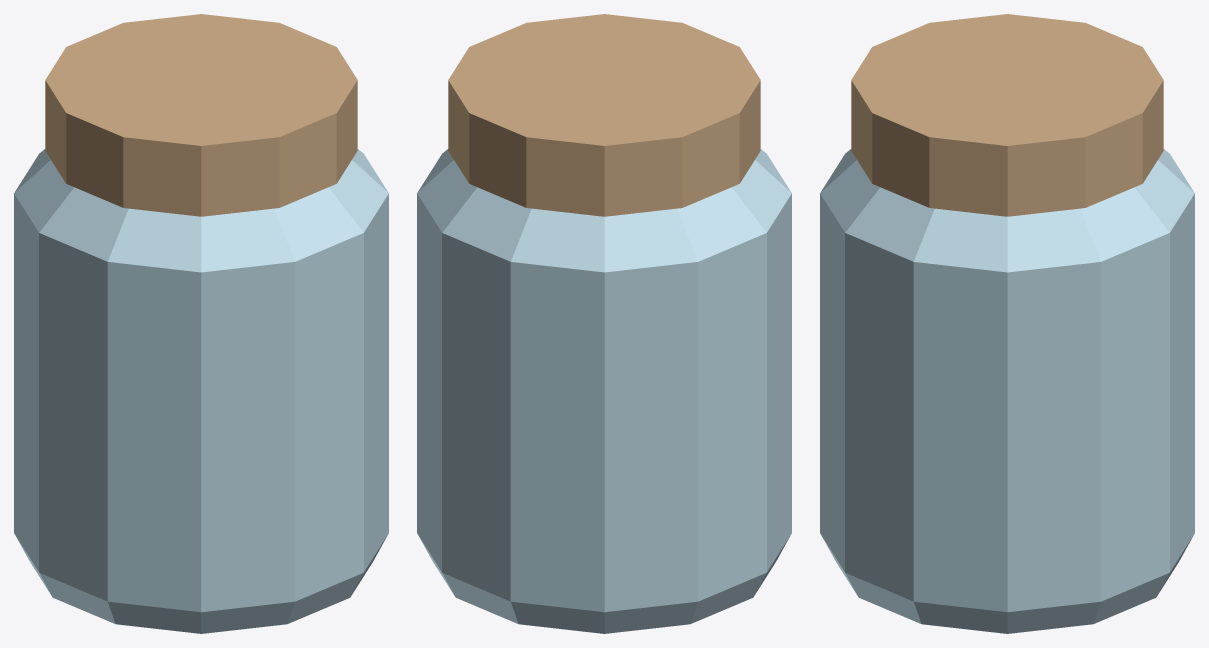
The model's file is jar.glb.
The picture shows the model from 3 angles, left to right: view 1: azimuth 30°, elevation 25°; view 2: azimuth 150°, elevation 25°; view 3: azimuth 270°, elevation 25°; orthographic projection.
Size of the model in its own units: 0.12 by 0.17 by 0.12.
